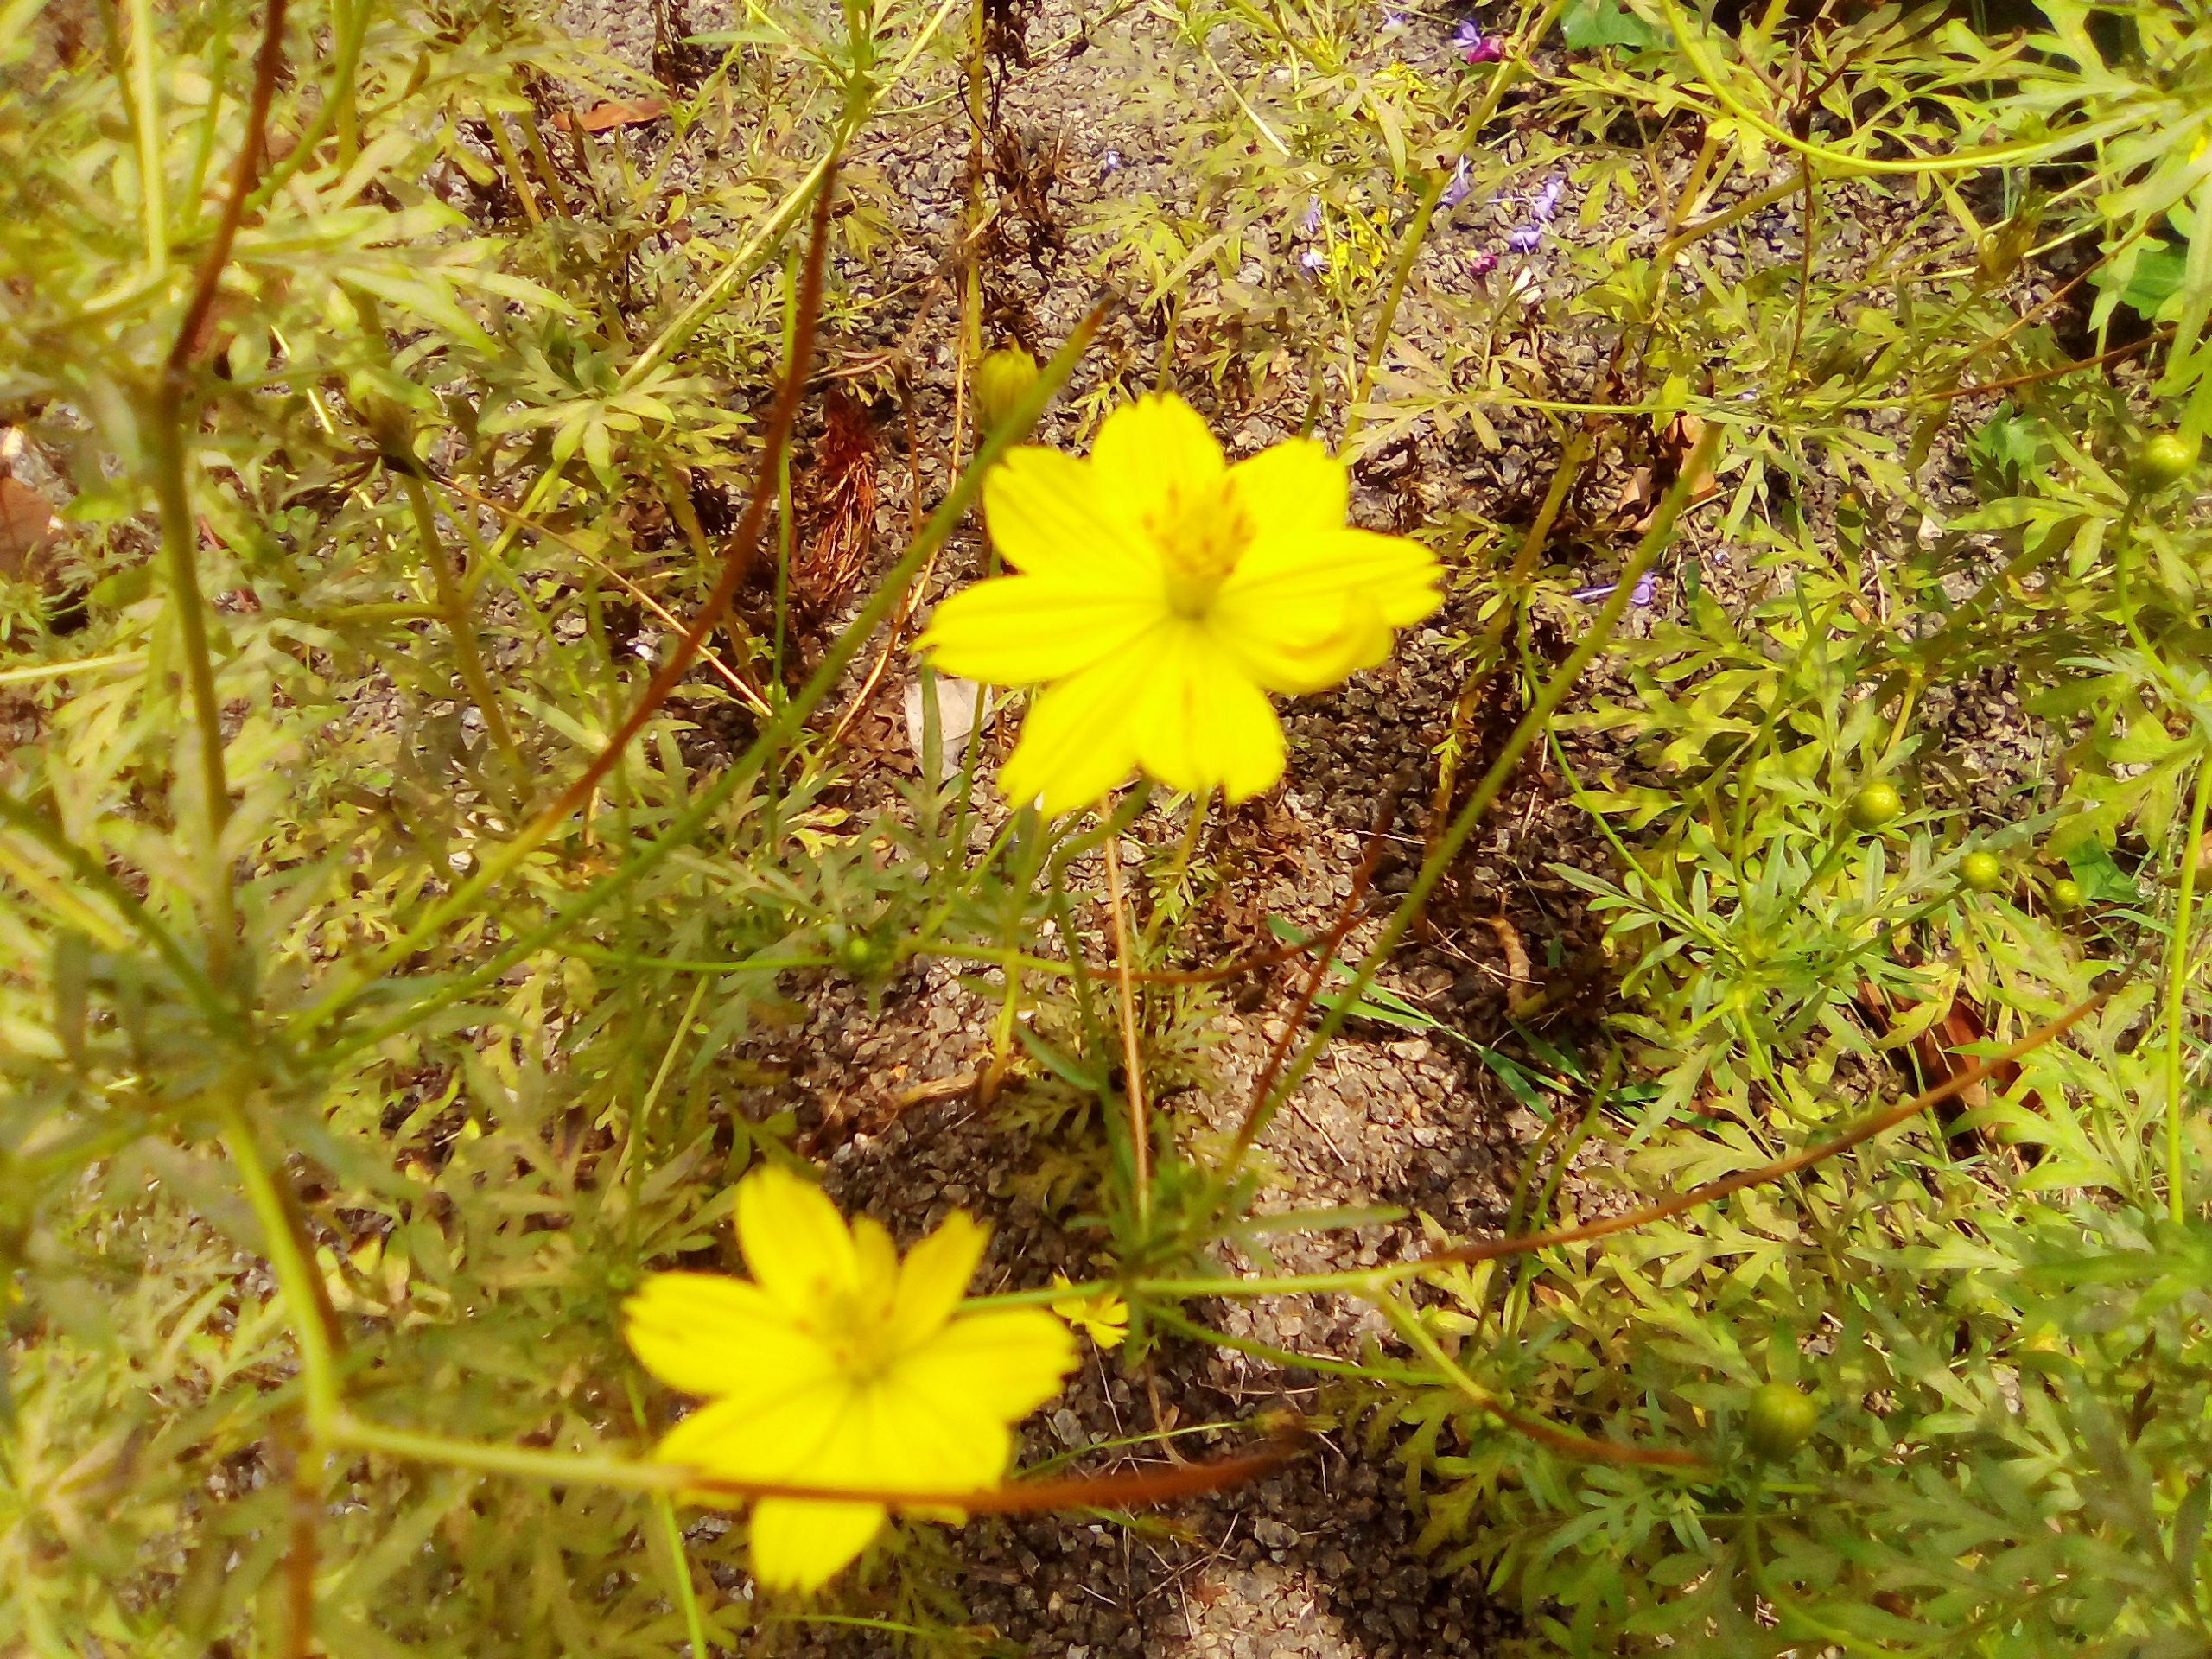kahamala: (583, 1152, 1080, 1605), (956, 410, 1454, 833)
